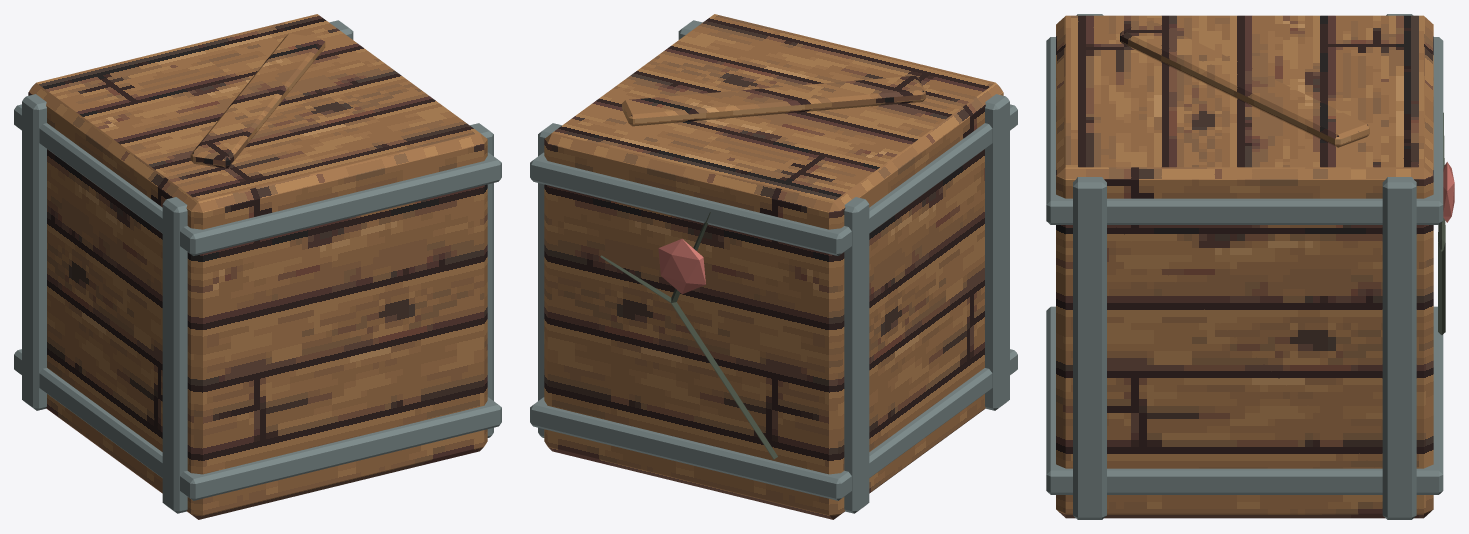
File: caixa_rachada.glb
3 renders of one model, left to right at view 1: azimuth 30°, elevation 25°; view 2: azimuth 150°, elevation 25°; view 3: azimuth 270°, elevation 25°, orthographic. The views are drawn at different scales.
Parts seen in each view (by area): view 1: bosque_caixa_rachada; view 2: bosque_caixa_rachada; view 3: bosque_caixa_rachada.
Boxes of the visible parts, x1,y1,x2,y2 form: bosque_caixa_rachada: (14,14,501,519); bosque_caixa_rachada: (530,14,1017,519); bosque_caixa_rachada: (1046,14,1454,519).
Size of the model in its own units: 0.842 by 0.832 by 0.8433.
4 materials, 1 textured.
